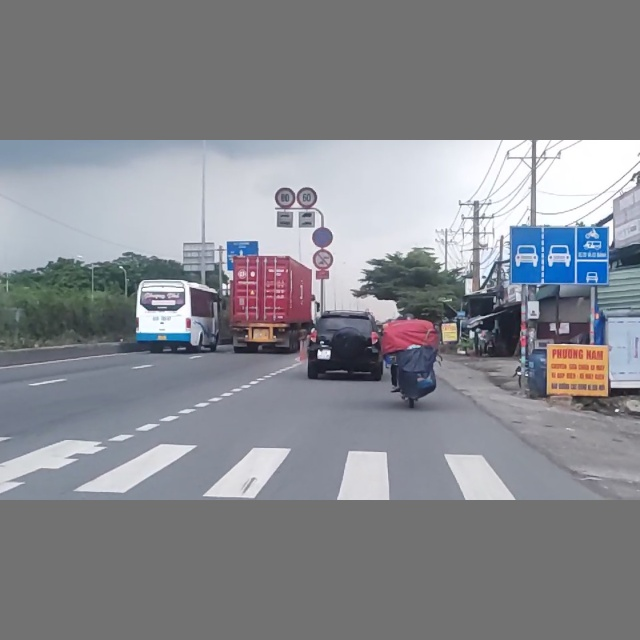P.111: (313, 250, 333, 269)
P.127*60: (297, 187, 318, 209)
P.127*80: (274, 187, 295, 209)
P.130: (312, 227, 333, 248)
R.415a: (510, 226, 610, 285)
